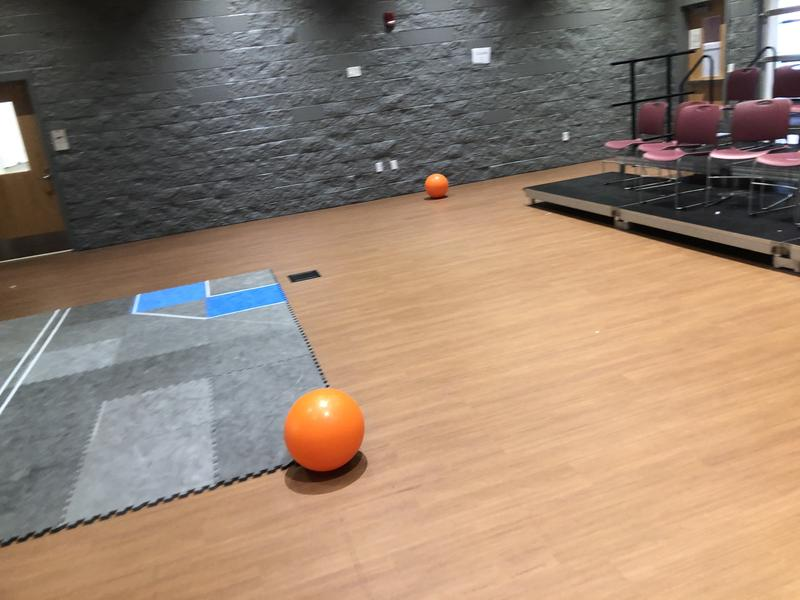ball: (287, 388, 365, 467), (424, 174, 451, 199)
